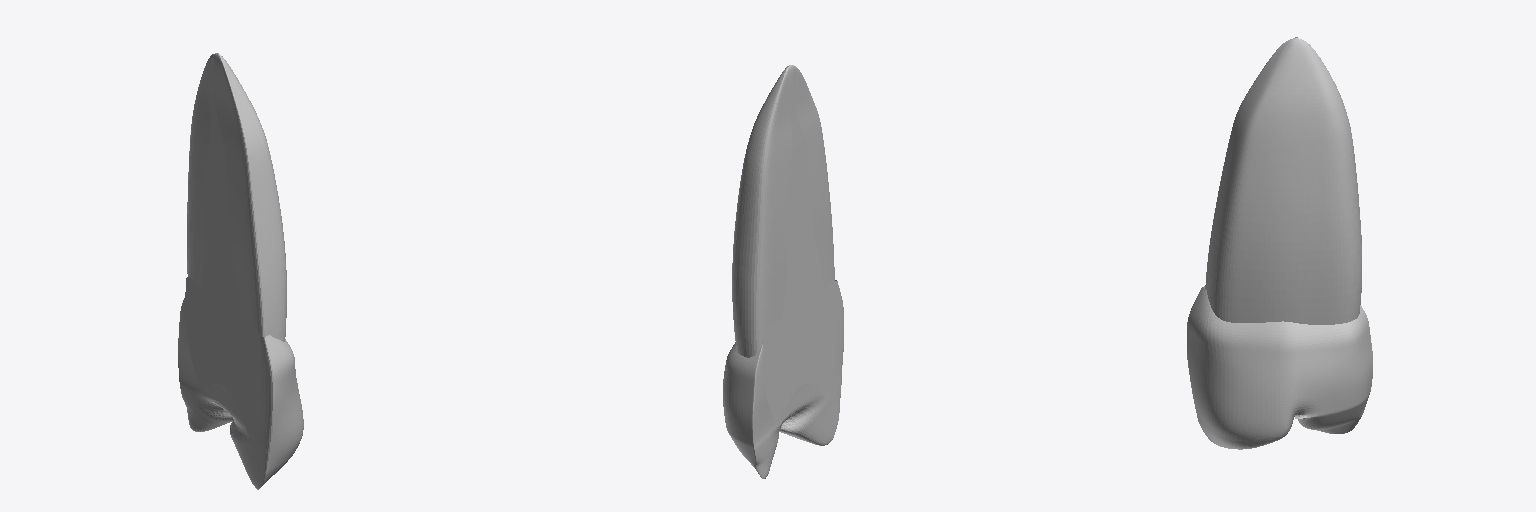
Rendered from Longitudinal.obj.
3 views of the same model, side by side, from view 1: azimuth 30°, elevation 25°; view 2: azimuth 150°, elevation 25°; view 3: azimuth 270°, elevation 25° (orthographic).
Visible parts, largest first — view 1: Cylinder_Cylinder.002, Cylinder.001, Plane.001, Plane; view 2: Cylinder_Cylinder.002, Cylinder.001, Plane.001, Plane; view 3: Cylinder_Cylinder.002, Cylinder.001.
Part boxes in pixels (left/top/right/bottom): Cylinder_Cylinder.002: left=187, top=53, right=286, bottom=341; Cylinder.001: left=178, top=298, right=303, bottom=489; Plane.001: left=201, top=57, right=240, bottom=364; Plane: left=185, top=277, right=261, bottom=438; Cylinder_Cylinder.002: left=732, top=65, right=834, bottom=357; Cylinder.001: left=723, top=280, right=843, bottom=478; Plane.001: left=783, top=69, right=823, bottom=346; Plane: left=763, top=281, right=838, bottom=422; Cylinder_Cylinder.002: left=1205, top=38, right=1361, bottom=324; Cylinder.001: left=1187, top=286, right=1372, bottom=449.
Size of the model in its own units: 0.9249 by 5.12 by 2.13.